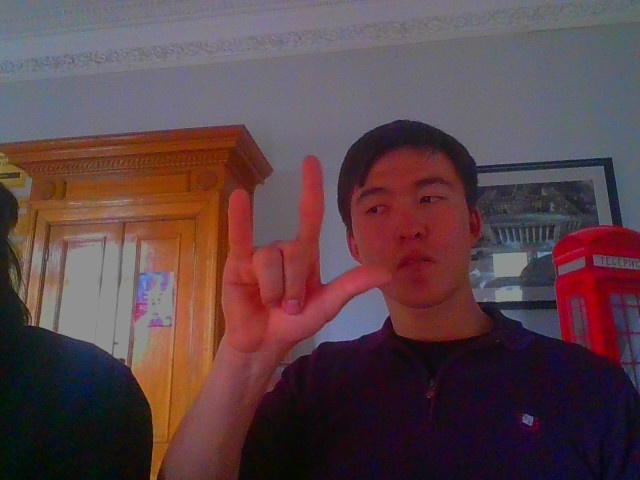Ilovu: (193, 145, 398, 338)
